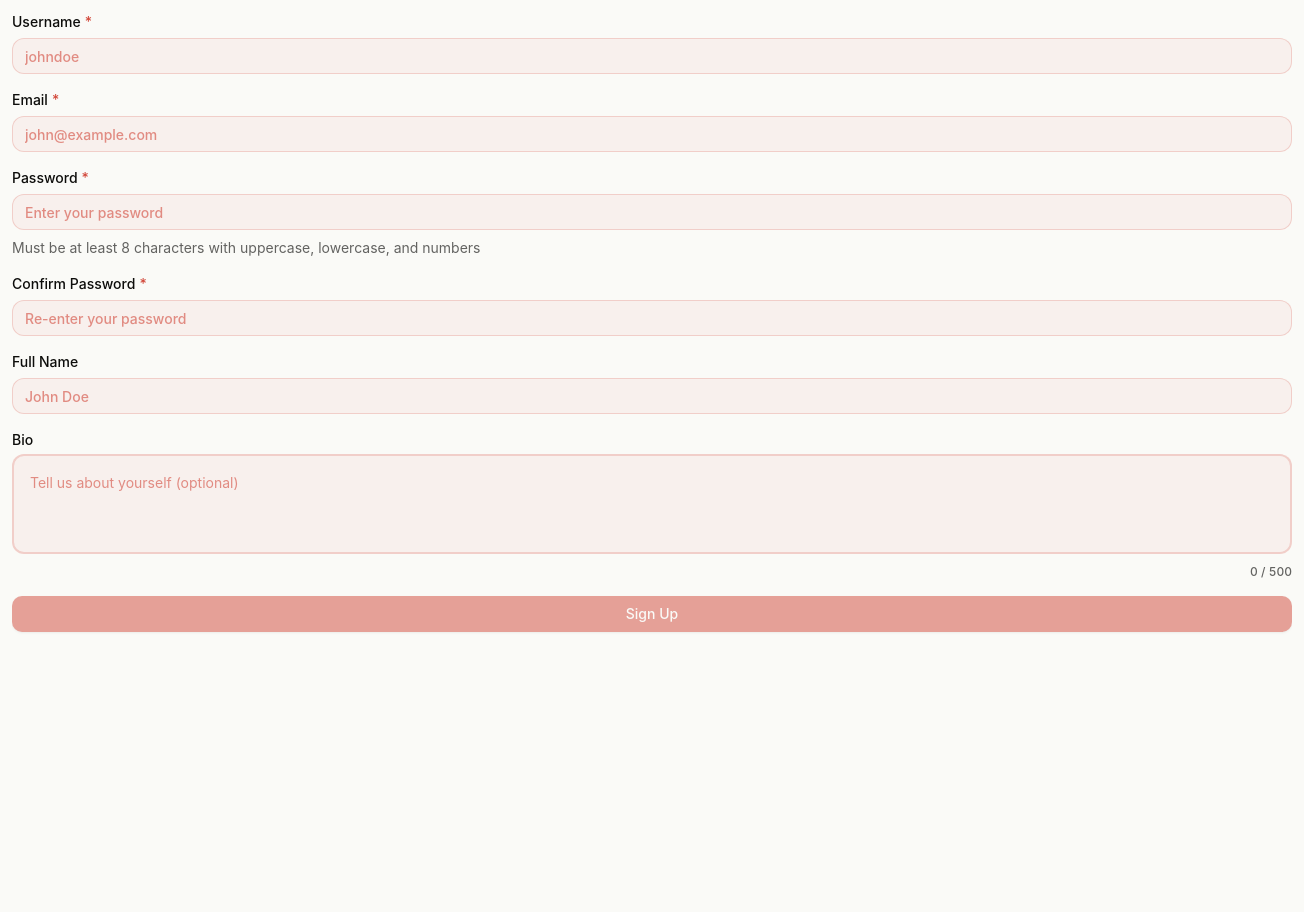
it: RegisterForm › validates required fields
Step 1. Click the field labelled "Username" → (652, 56), box [12, 38, 1292, 74]
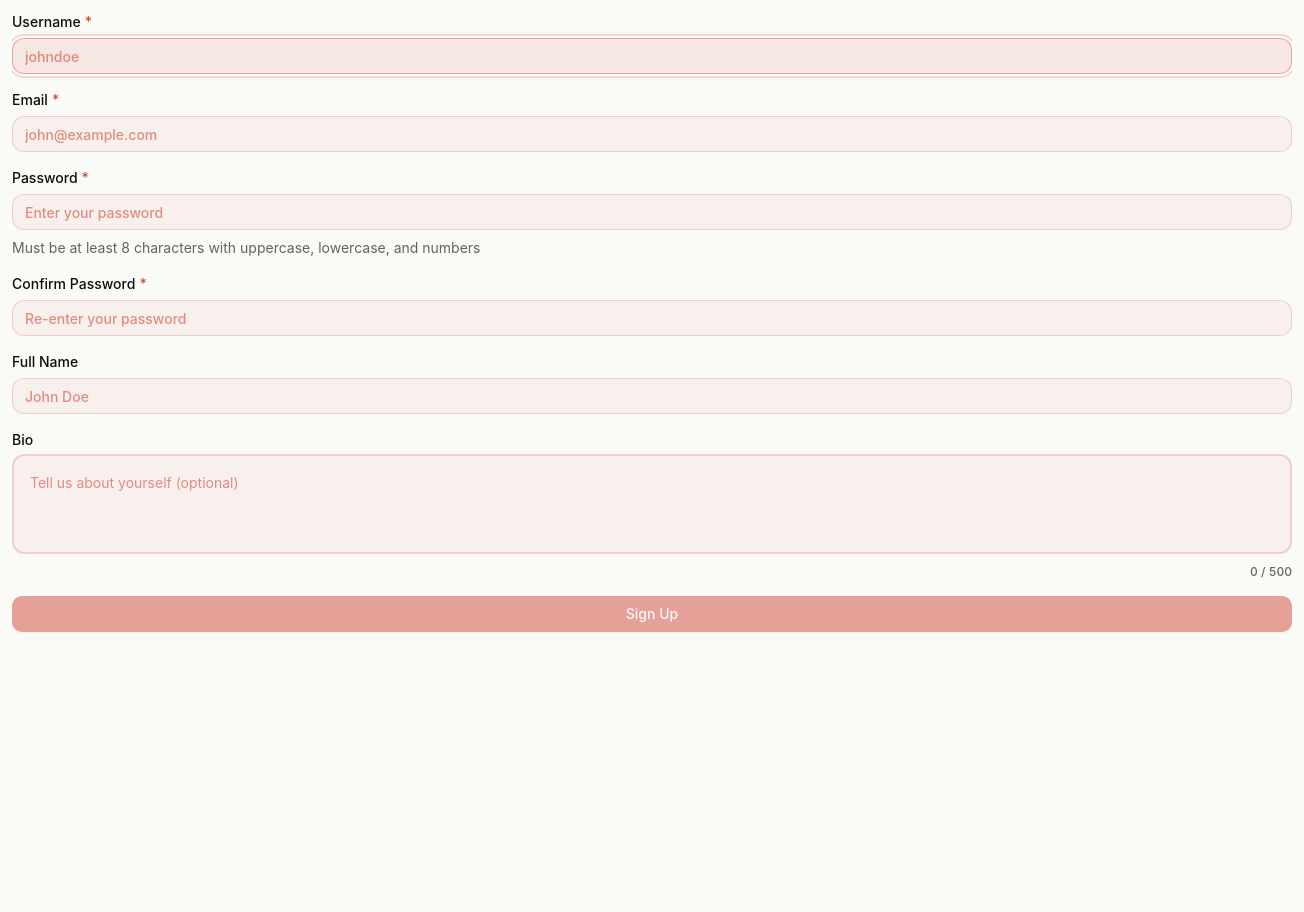
Step 2. Press Tab
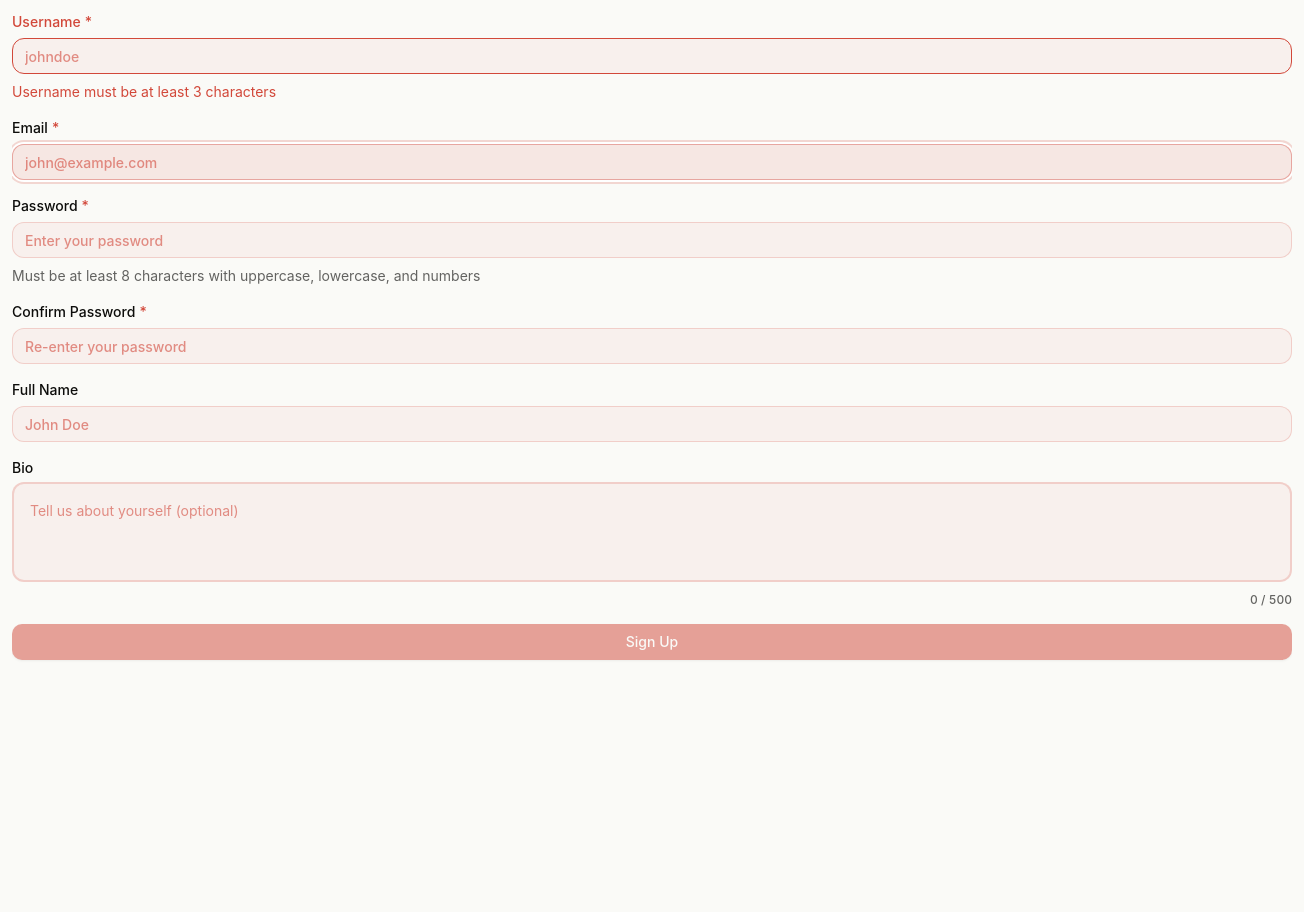
Check: the text "Username must be at least 3 characters" is shown, box [12, 82, 276, 102]
